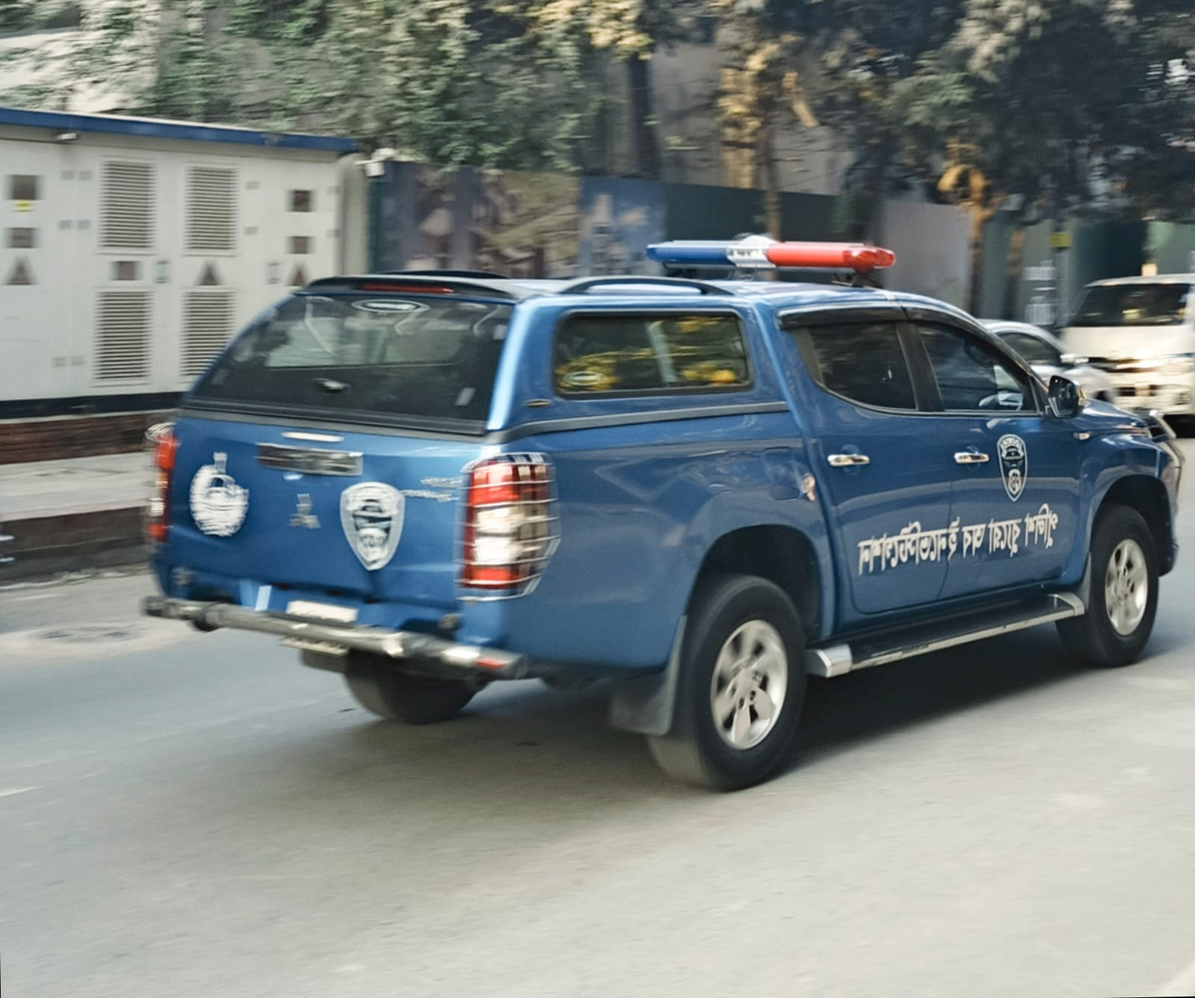Police cars: (119, 225, 1180, 807)
